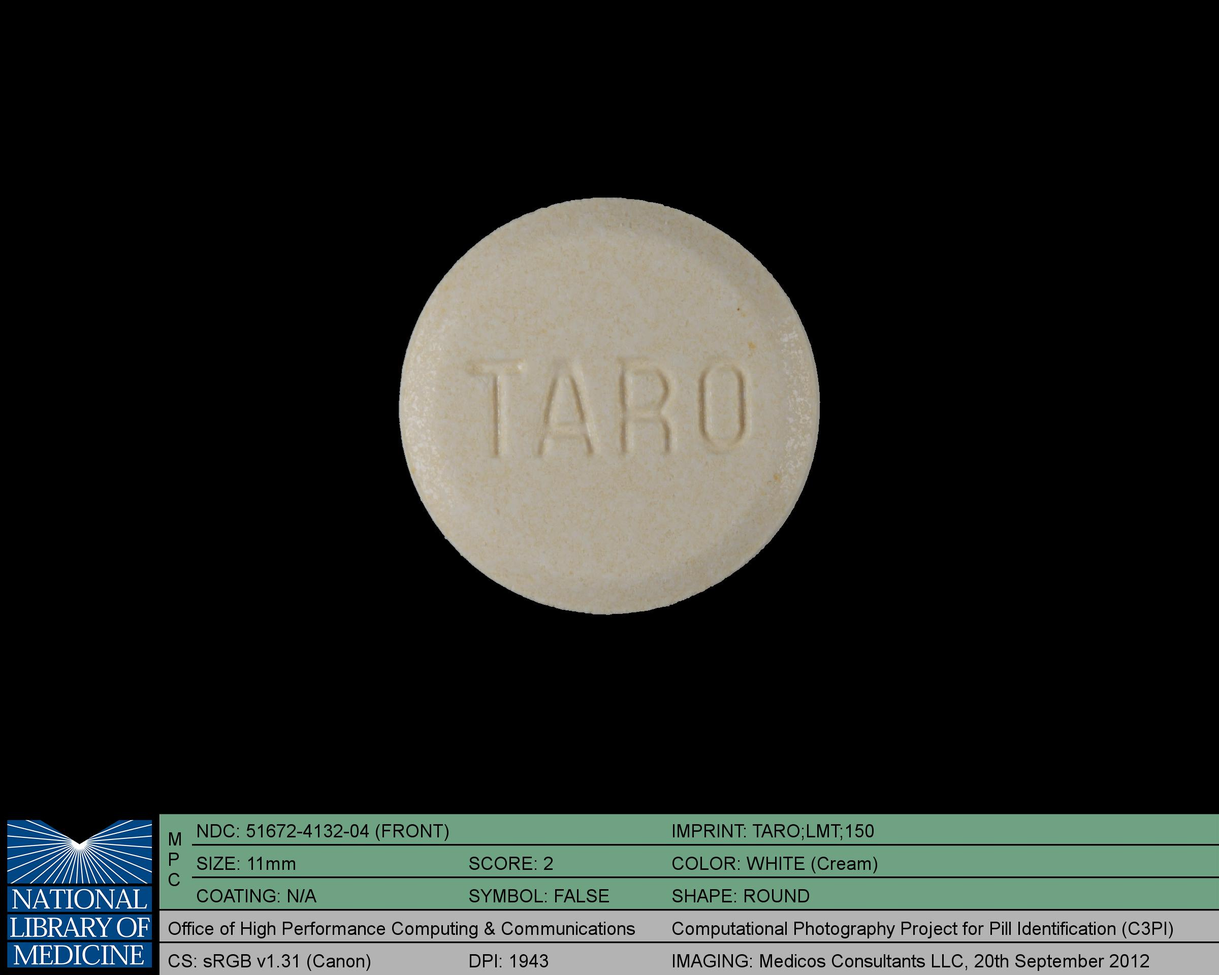Pill: (383, 185, 835, 630)
